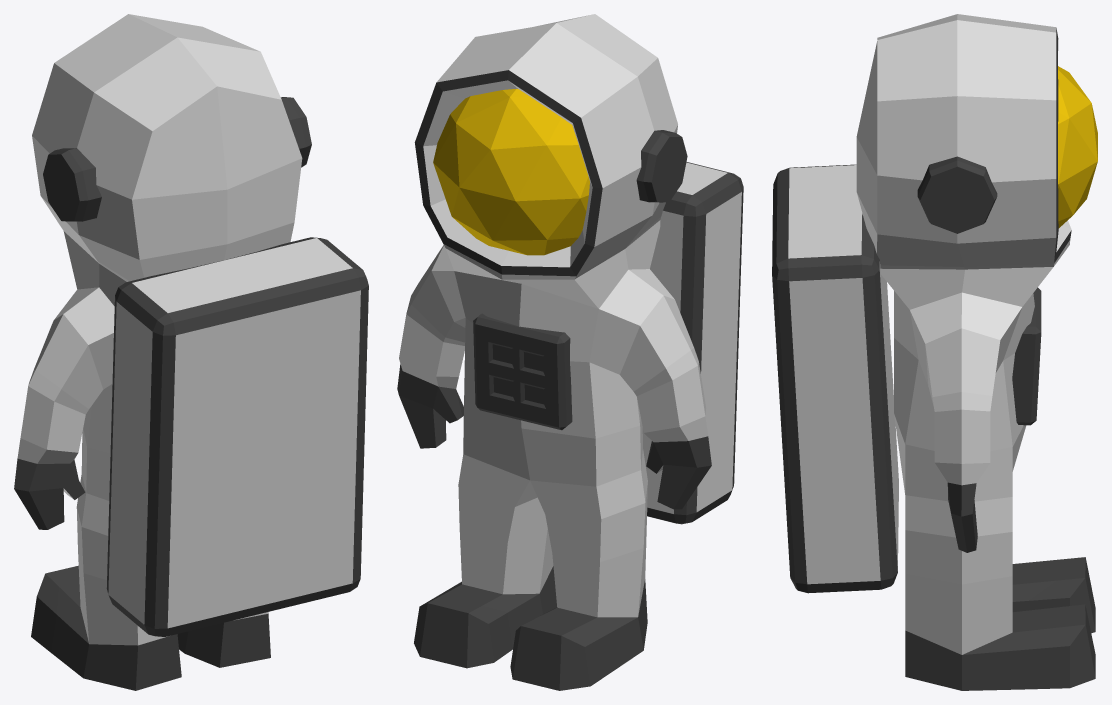
The model's file is astronout.glb.
3 views of the same model, side by side, from view 1: azimuth 30°, elevation 25°; view 2: azimuth 150°, elevation 25°; view 3: azimuth 270°, elevation 25° (orthographic). The views are drawn at different scales.
Parts seen in each view (by area): view 1: Cube.001; view 2: Cube.001; view 3: Cube.001.
Part boxes in pixels (box(x1,y1,x2,y2)): Cube.001: box(14, 14, 368, 690); Cube.001: box(397, 14, 743, 690); Cube.001: box(772, 14, 1097, 690).
Size of the model in its own units: 1.32 by 2.44 by 1.15.
